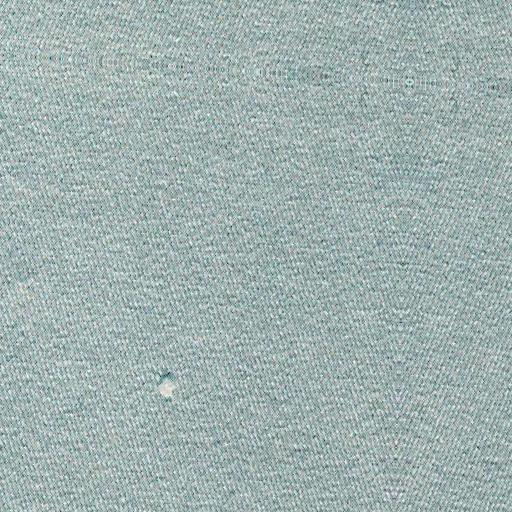knot: (148, 363, 196, 414)
